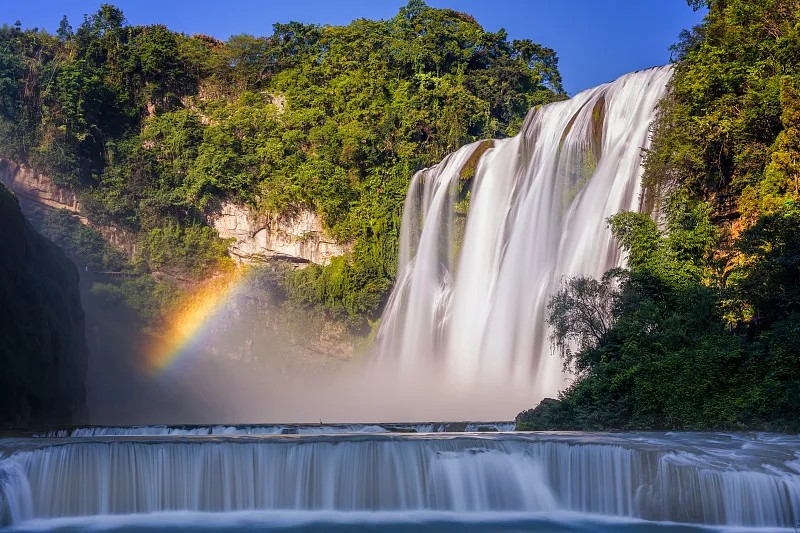Huangguoshu: (369, 64, 676, 422)
